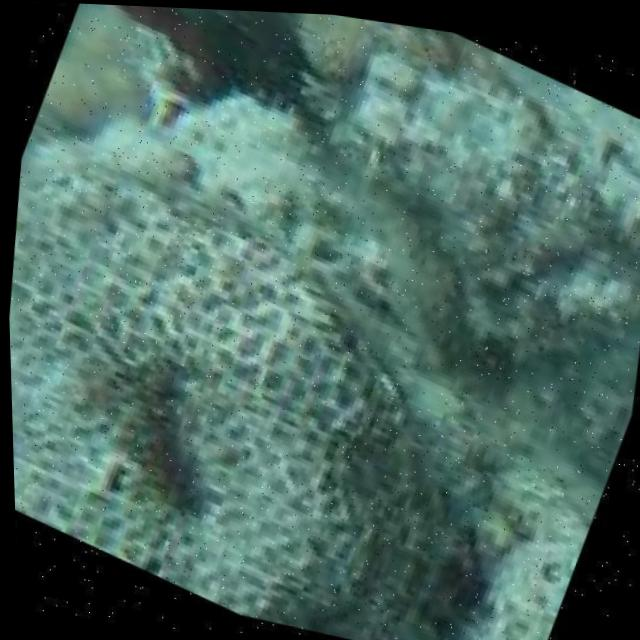Bleached Coral: (3, 140, 452, 603)
